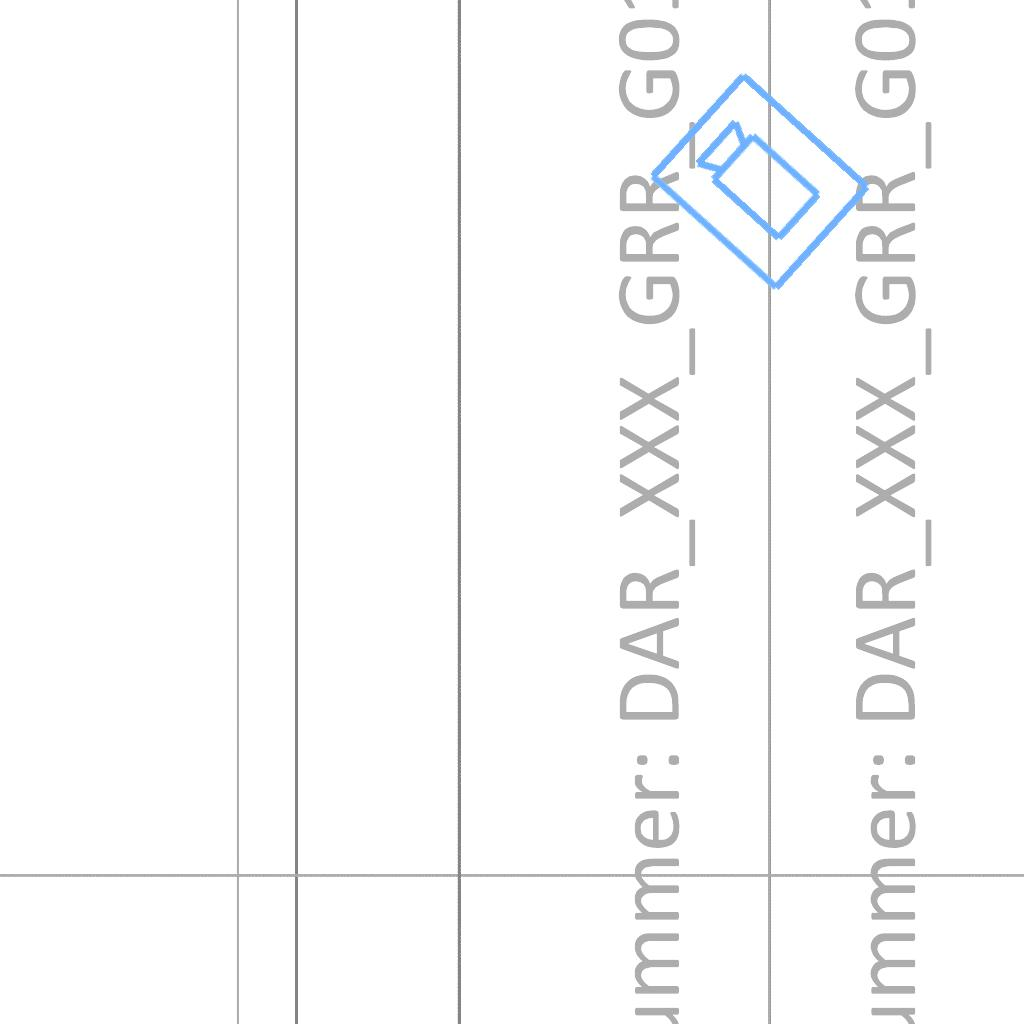KFO_Kamera_mit_Festobjektiv: (641, 62, 881, 300)
